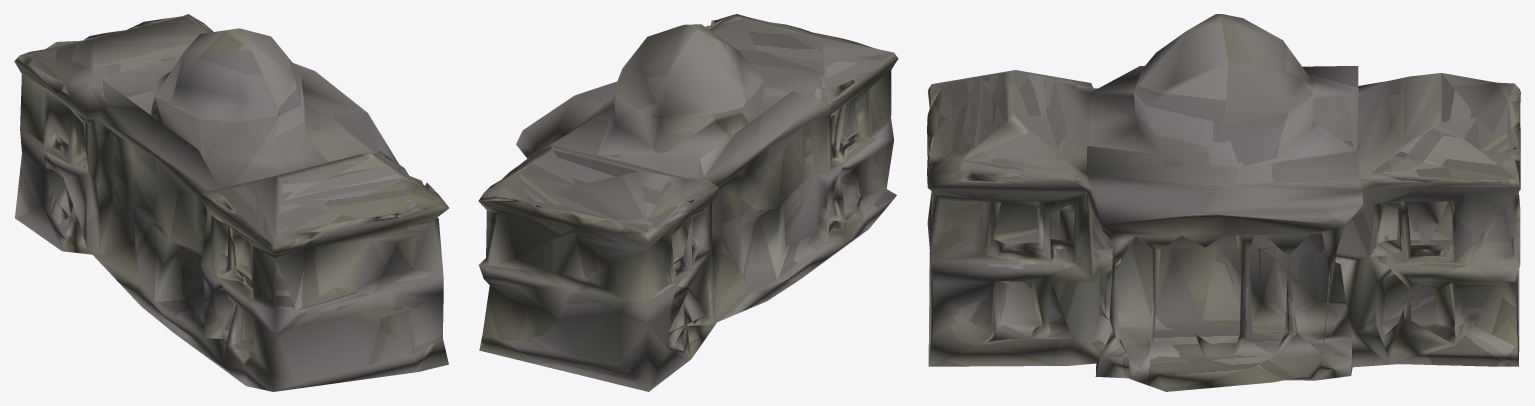
Rendered from house_noble_1_lo.glb.
3 views of the same model, side by side, from view 1: azimuth 30°, elevation 25°; view 2: azimuth 150°, elevation 25°; view 3: azimuth 270°, elevation 25° (orthographic). The views are drawn at different scales.
Visible parts, largest first — view 1: tripo_node_bf53fd1a-f9f2-4a5b-9f5e-ce46a4f59928; view 2: tripo_node_bf53fd1a-f9f2-4a5b-9f5e-ce46a4f59928; view 3: tripo_node_bf53fd1a-f9f2-4a5b-9f5e-ce46a4f59928.
Boxes of the visible parts, x1,y1,x2,y2 form: tripo_node_bf53fd1a-f9f2-4a5b-9f5e-ce46a4f59928: (14,14,449,391); tripo_node_bf53fd1a-f9f2-4a5b-9f5e-ce46a4f59928: (478,14,898,391); tripo_node_bf53fd1a-f9f2-4a5b-9f5e-ce46a4f59928: (927,14,1520,391).
Size of the model in its own units: 0.4811 by 0.5441 by 0.9774.
Materials: 1 (1 with a texture image).
